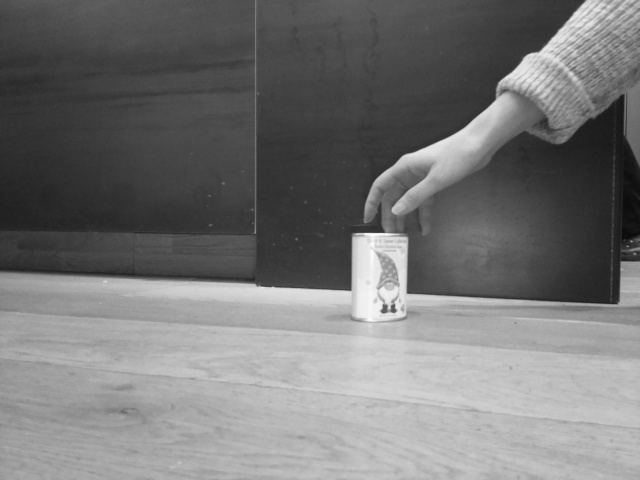gnome: (366, 246, 404, 316)
